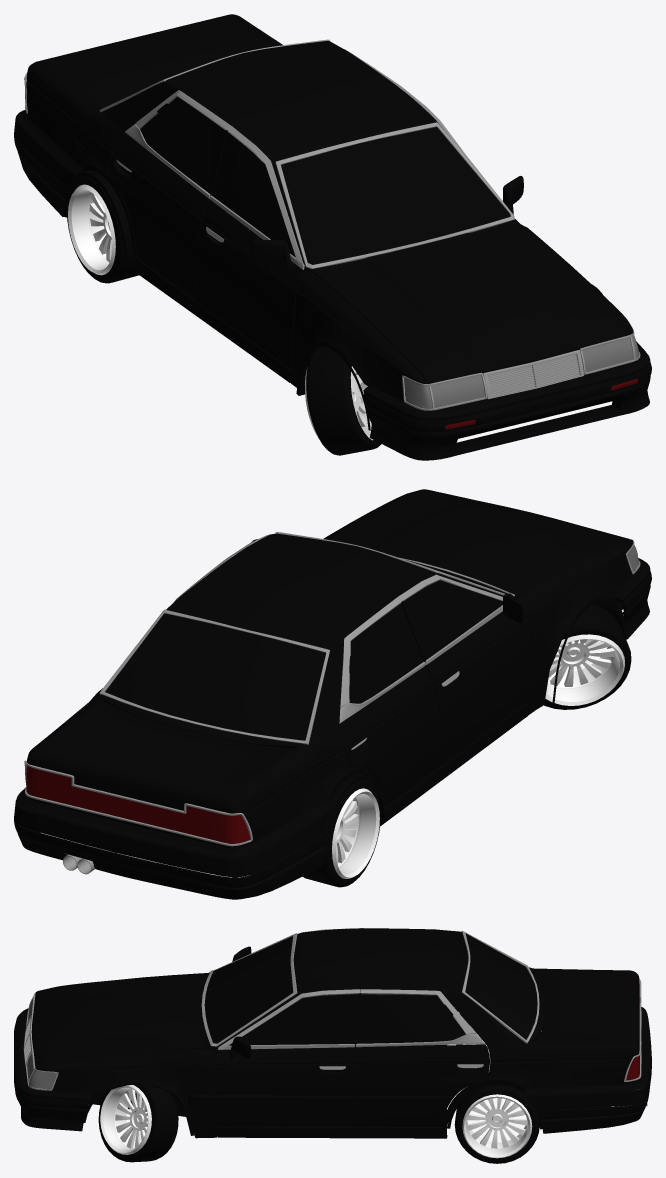
The model's file is laurel.glb.
3 views of the same model, one above another, from view 1: azimuth 30°, elevation 25°; view 2: azimuth 150°, elevation 25°; view 3: azimuth 270°, elevation 25° (orthographic). The views are drawn at different scales.
Parts seen in each view (by area): view 1: Plane.002_Body_0, Plane.001_Body_0, Plane.013_Glass_0, Plane.003_Body_0, Plane.007_Body_0, Plane.004_Body_0, Cube.001_Plastic_0, Cylinder.010_Plastic_0, Plane.016_Glass_0, Plane_Body_0, Plane.015_Glass_0, Plane.006_Body_0 (+19 smaller); view 2: Plane.001_Body_0, Plane.014_Glass_0, Plane.002_Body_0, Plane.007_Body_0, Cube.002_Plastic_0, Plane.003_Body_0, Plane.004_Body_0, Cube.009_Plastic_0, Cube.005_backlights_0, Plane_Body_0, Plane.016_Glass_0, Cylinder.011__0_1 (+15 smaller); view 3: Plane.001_Body_0, Plane.002_Body_0, Plane.003_Body_0, Plane.004_Body_0, Plane.007_Body_0, Plane.013_Glass_0, Plane_Body_0, Plane.016_Glass_0, Plane.014_Glass_0, Plane.015_Glass_0, Cube.002_Plastic_0, Plane.005_Body_0 (+18 smaller).
Part boxes in pixels (left/top/right/bottom): Plane.002_Body_0: left=312, top=220, right=630, bottom=383; Plane.001_Body_0: left=26, top=14, right=450, bottom=264; Plane.013_Glass_0: left=281, top=128, right=510, bottom=264; Plane.003_Body_0: left=196, top=200, right=519, bottom=368; Plane.007_Body_0: left=36, top=14, right=274, bottom=107; Plane.004_Body_0: left=107, top=103, right=211, bottom=300; Cube.001_Plastic_0: left=365, top=376, right=650, bottom=460; Cylinder.010_Plastic_0: left=306, top=346, right=381, bottom=455; Plane.016_Glass_0: left=140, top=96, right=225, bottom=193; Plane_Body_0: left=290, top=290, right=433, bottom=410; Plane.015_Glass_0: left=212, top=132, right=295, bottom=257; Plane.006_Body_0: left=297, top=219, right=633, bottom=383; Plane.001_Body_0: left=27, top=533, right=503, bottom=843; Plane.014_Glass_0: left=105, top=613, right=325, bottom=740; Plane.002_Body_0: left=326, top=489, right=629, bottom=597; Plane.007_Body_0: left=33, top=701, right=295, bottom=812; Cube.002_Plastic_0: left=14, top=787, right=336, bottom=899; Plane.003_Body_0: left=425, top=611, right=533, bottom=767; Plane.004_Body_0: left=339, top=656, right=440, bottom=806; Cube.009_Plastic_0: left=14, top=800, right=329, bottom=877; Cube.005_backlights_0: left=26, top=765, right=250, bottom=843; Plane_Body_0: left=527, top=542, right=634, bottom=714; Plane.016_Glass_0: left=349, top=603, right=423, bottom=703; Cylinder.011__0_1: left=545, top=634, right=624, bottom=705; Plane.001_Body_0: left=218, top=928, right=639, bottom=1088; Plane.002_Body_0: left=31, top=972, right=210, bottom=1067; Plane.003_Body_0: left=211, top=1047, right=355, bottom=1126; Plane.004_Body_0: left=354, top=1001, right=489, bottom=1126; Plane.007_Body_0: left=534, top=970, right=639, bottom=1049; Plane.013_Glass_0: left=204, top=936, right=292, bottom=1043; Plane_Body_0: left=37, top=1057, right=217, bottom=1138; Plane.016_Glass_0: left=356, top=994, right=465, bottom=1043; Plane.014_Glass_0: left=465, top=933, right=537, bottom=1039; Plane.015_Glass_0: left=230, top=994, right=359, bottom=1045; Cube.002_Plastic_0: left=524, top=1007, right=651, bottom=1133; Plane.005_Body_0: left=216, top=1003, right=639, bottom=1138.
Size of the model in its own units: 2.08 by 1.31 by 4.69.
